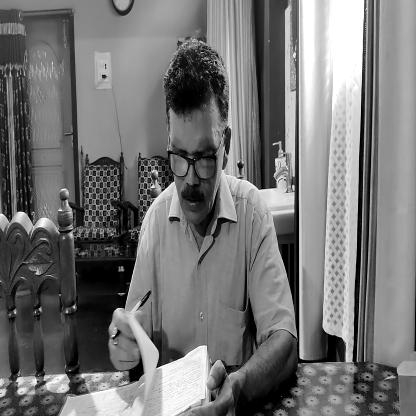Normal: (164, 40, 227, 223)
